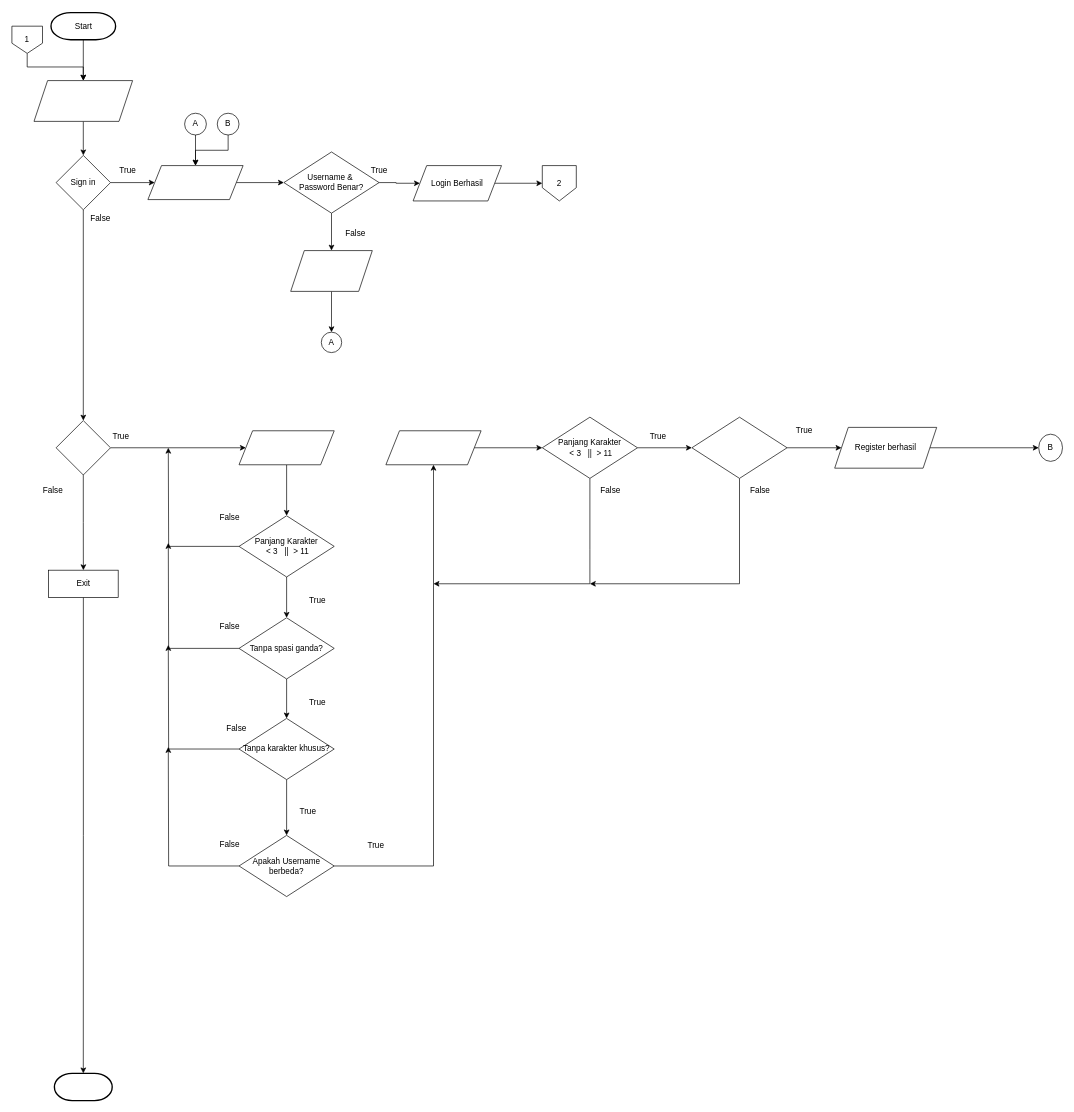
The diagram is 1074 pixels wide and 1112 high, and some of its shapes have lost their labels. Each missing label, with the box of its shape:
End: (53, 1072, 113, 1101)
Input Password: (385, 430, 481, 465)
Input Username: (238, 430, 334, 465)
Input Username & Password: (147, 165, 243, 200)
Karater Minimal 2 angka dan 1 huruf: (691, 417, 787, 478)
Login Gagal: (290, 250, 372, 291)
Sign In & Sign Up: (33, 80, 133, 121)
Sign Up: (55, 420, 111, 475)
